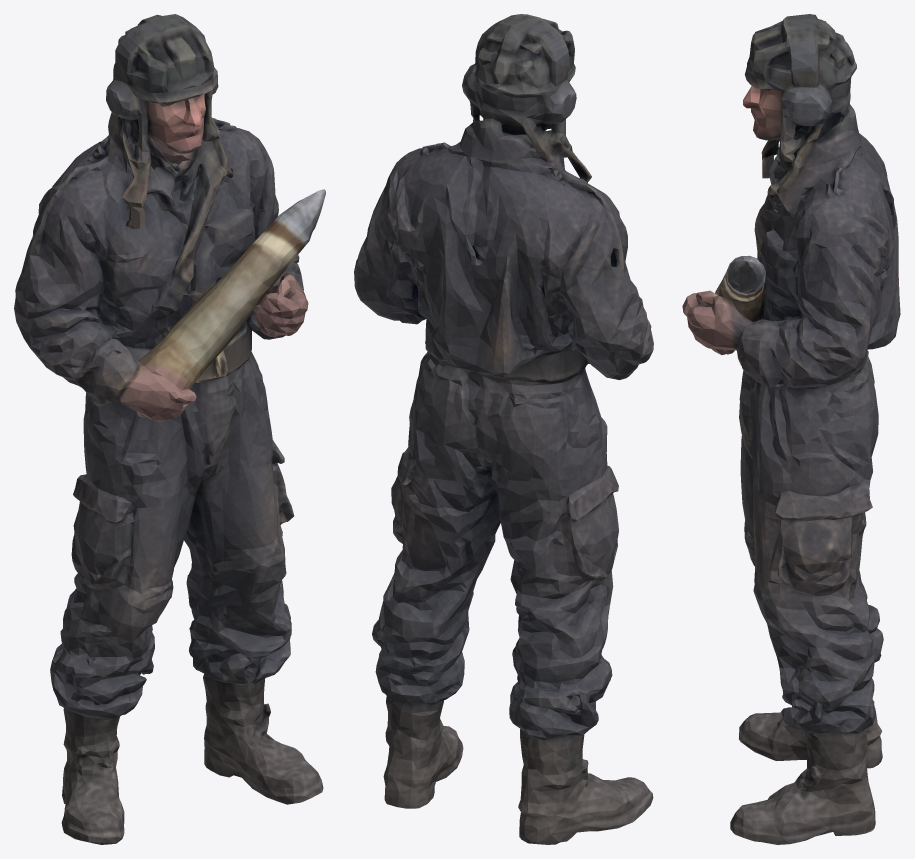
The model's file is crew_su_loader.obj.
The picture shows the model from 3 angles, left to right: view 1: azimuth 30°, elevation 25°; view 2: azimuth 150°, elevation 25°; view 3: azimuth 270°, elevation 25°; orthographic projection. The views are drawn at different scales.
Parts seen in each view (by area): view 1: crew_su_loader; view 2: crew_su_loader; view 3: crew_su_loader.
Part boxes in pixels (x1,y1,x2,y2): crew_su_loader: (14,14,325,844); crew_su_loader: (354,14,653,844); crew_su_loader: (682,14,900,844).
Bounding box in the file's own units: 0.6631 × 1.8 × 0.4652.
Materials: 1 (1 with a texture image).
